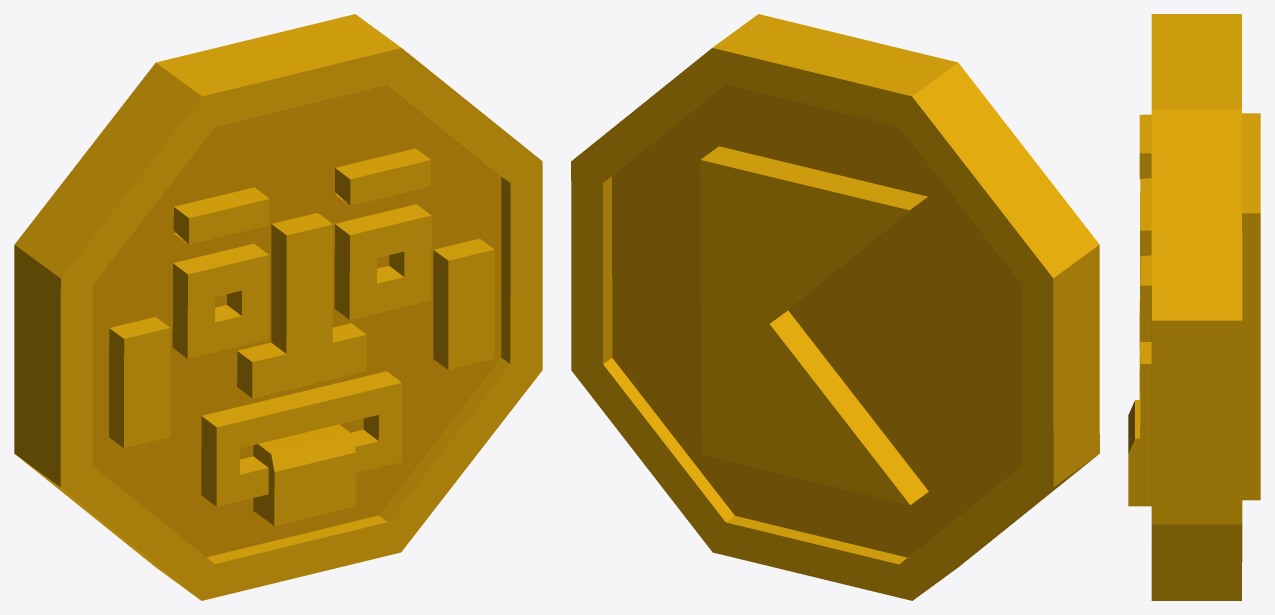
The model's file is Coin.fbx.
3 views of the same model, side by side, from view 1: azimuth 30°, elevation 25°; view 2: azimuth 150°, elevation 25°; view 3: azimuth 270°, elevation 25° (orthographic). The views are drawn at different scales.
Parts seen in each view (by area): view 1: moneta; view 2: moneta; view 3: moneta.
Boxes of the visible parts, box(x1,y1,x2,y2) form: moneta: box(14, 14, 542, 600); moneta: box(571, 14, 1099, 600); moneta: box(1128, 14, 1260, 600).
Size of the model in its own units: 89.14 by 89.14 by 21.71.
